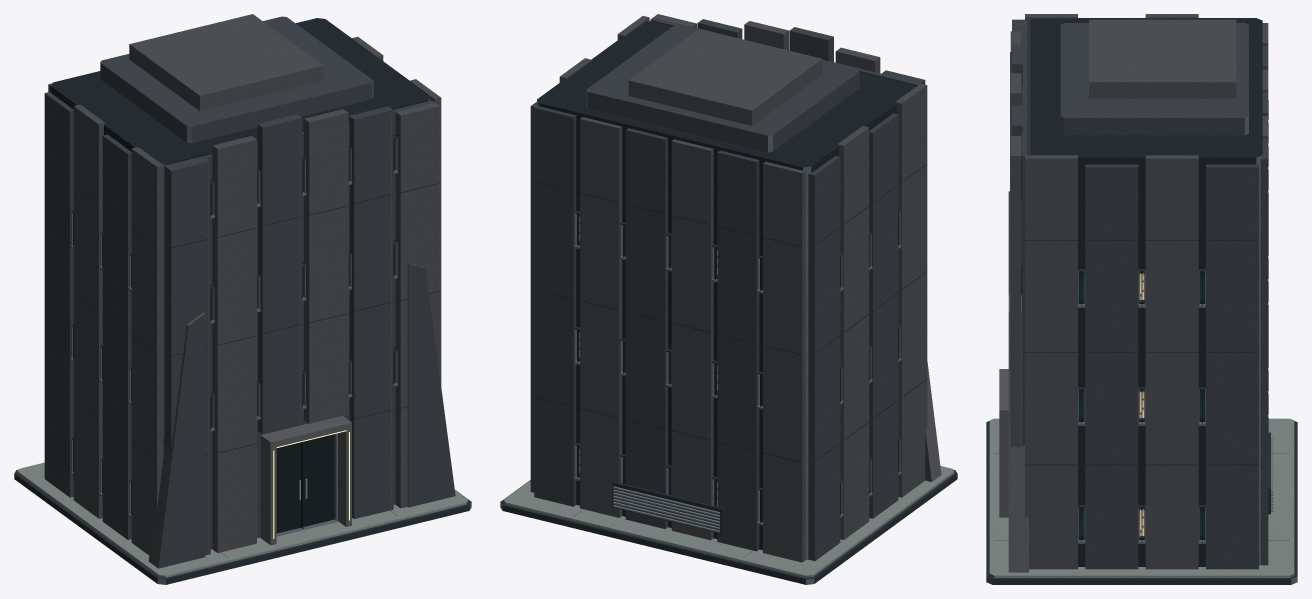
The model's file is 01-about-annex-01.glb.
3 views of the same model, side by side, from view 1: azimuth 30°, elevation 25°; view 2: azimuth 150°, elevation 25°; view 3: azimuth 270°, elevation 25° (orthographic). The views are drawn at different scales.
Parts seen in each view (by area): view 1: about_monolith_annex; view 2: about_monolith_annex; view 3: about_monolith_annex.
Boxes of the visible parts, left/top/right/bottom form: about_monolith_annex: left=14, top=14, right=471, bottom=584; about_monolith_annex: left=500, top=14, right=957, bottom=584; about_monolith_annex: left=986, top=14, right=1297, bottom=584.
Size of the model in its own units: 11.9 by 15.66 by 9.8.
2 materials, 2 textured.
